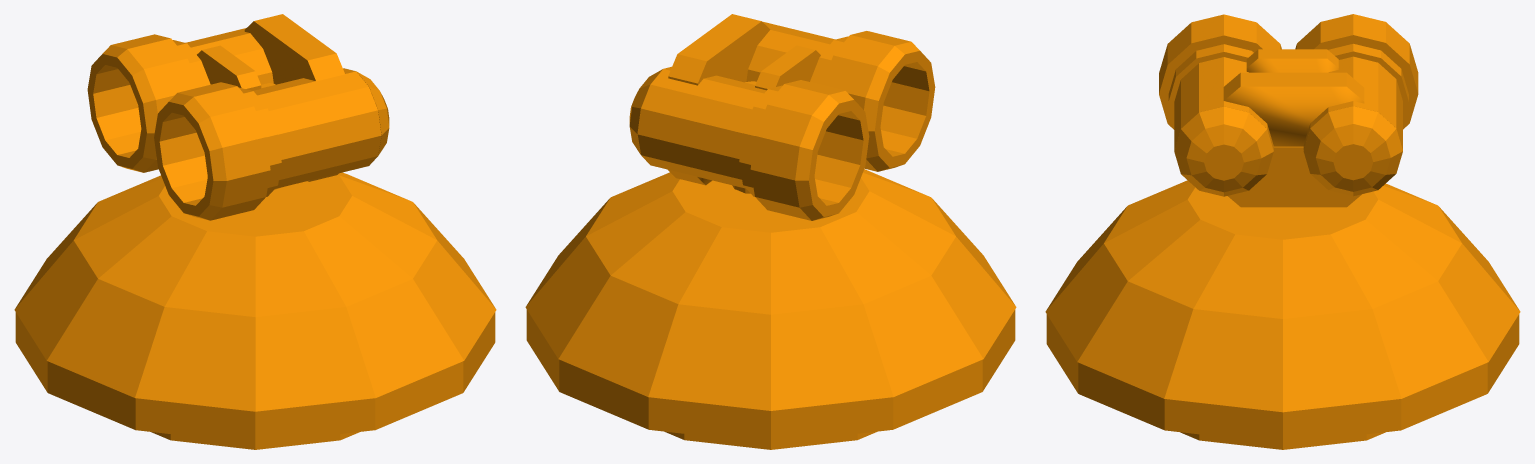
The model's file is blasterNew1.obj.
The picture shows the model from 3 angles, left to right: view 1: azimuth 30°, elevation 25°; view 2: azimuth 150°, elevation 25°; view 3: azimuth 270°, elevation 25°; orthographic projection. The views are drawn at different scales.
Parts seen in each view (by area): view 1: gun_mesh602163281; view 2: gun_mesh602163281; view 3: gun_mesh602163281.
Part boxes in pixels (x1,y1,x2,y2): gun_mesh602163281: (14, 14, 496, 449); gun_mesh602163281: (525, 14, 1016, 449); gun_mesh602163281: (1045, 14, 1520, 449).
Bounding box in the file's own units: 0.61 × 0.4551 × 0.61.
